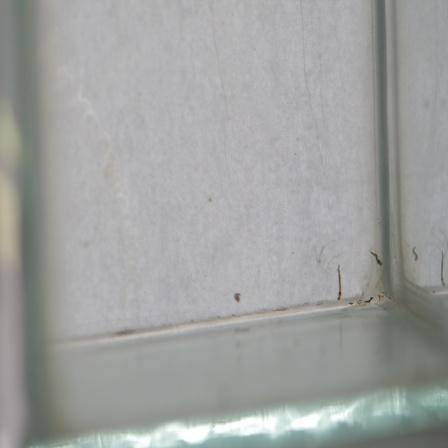Jentik-Nyamuk: (333, 263, 347, 305)
